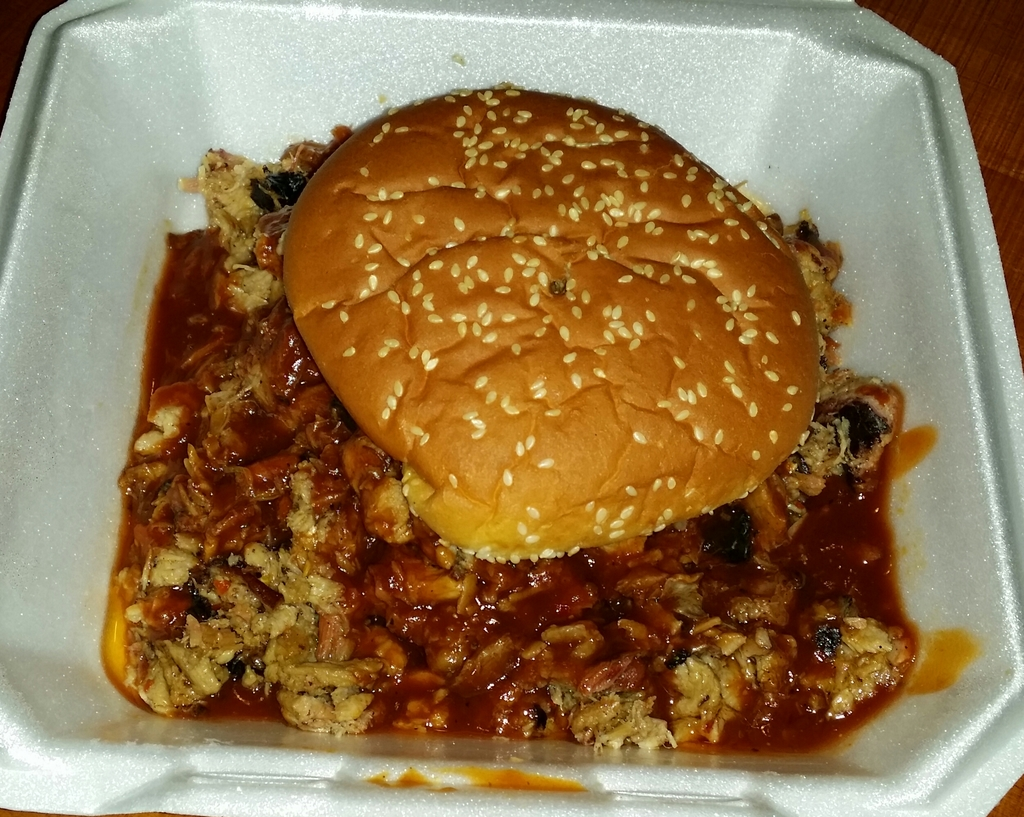Hamburger: (96, 82, 931, 756)
